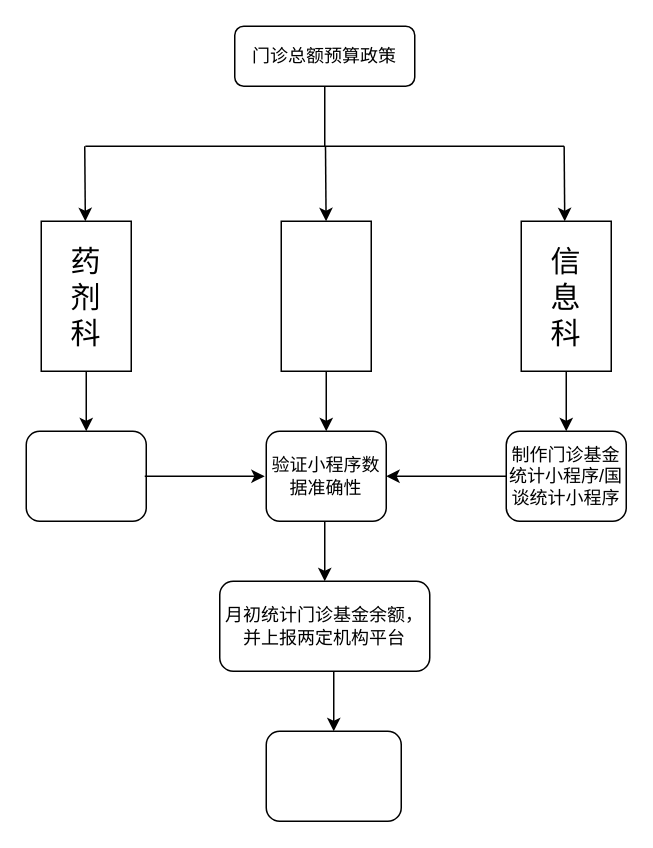
The diagram is 653 pixels wide and 848 high, and some of its shapes have lost their labels. Each missing label, with the centre of its shape:
上报院长，控制不合理增长: point 333,775
医 保 办: point 325,295
月初上报国谈药品余额: point 85,475
